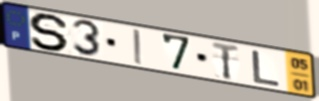3: (69, 19, 106, 59)
7: (160, 32, 192, 73)
I: (131, 27, 145, 67)
L: (251, 49, 282, 88)
S: (28, 12, 73, 53)
T: (211, 40, 241, 81)
